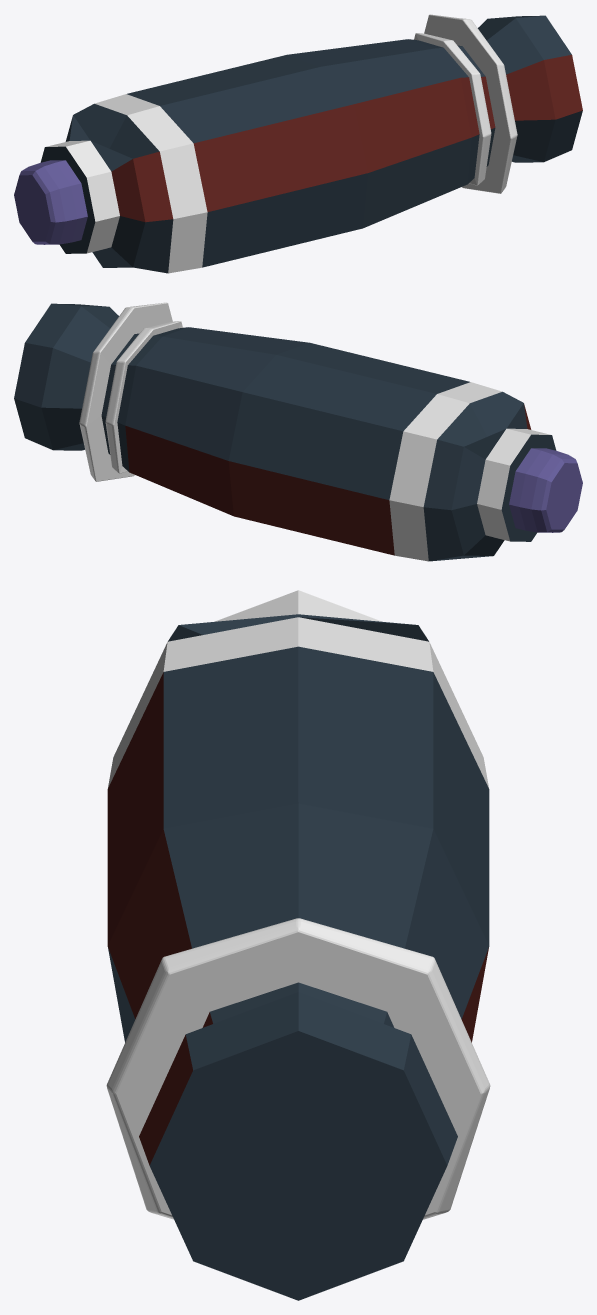
The model's file is BombLower.fbx.
3 renders of one model, top to bottom at view 1: azimuth 30°, elevation 25°; view 2: azimuth 150°, elevation 25°; view 3: azimuth 270°, elevation 25°, orthographic. The views are drawn at different scales.
Parts seen in each view (by area): view 1: Cylinder.003; view 2: Cylinder.003; view 3: Cylinder.003.
Part boxes in pixels (x1=…): Cylinder.003: x1=14, y1=14, x2=582, y2=273; Cylinder.003: x1=14, y1=302, x2=582, y2=561; Cylinder.003: x1=106, y1=590, x2=490, y2=1300.
Size of the model in its own units: 97.13 by 30.48 by 31.44.
